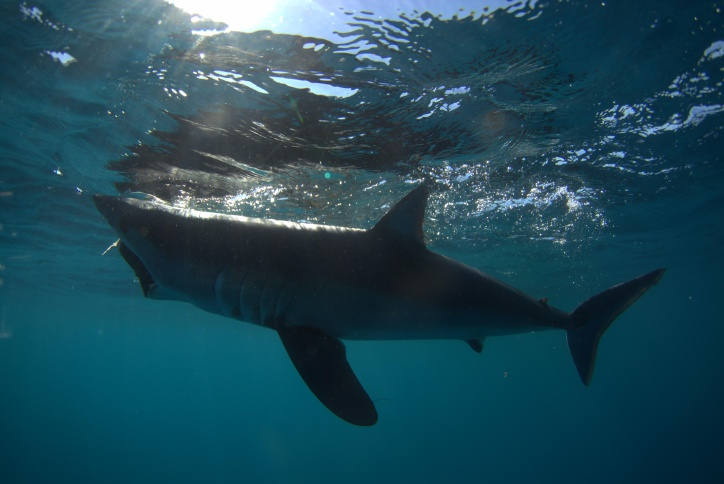Mako: (57, 172, 677, 430)
